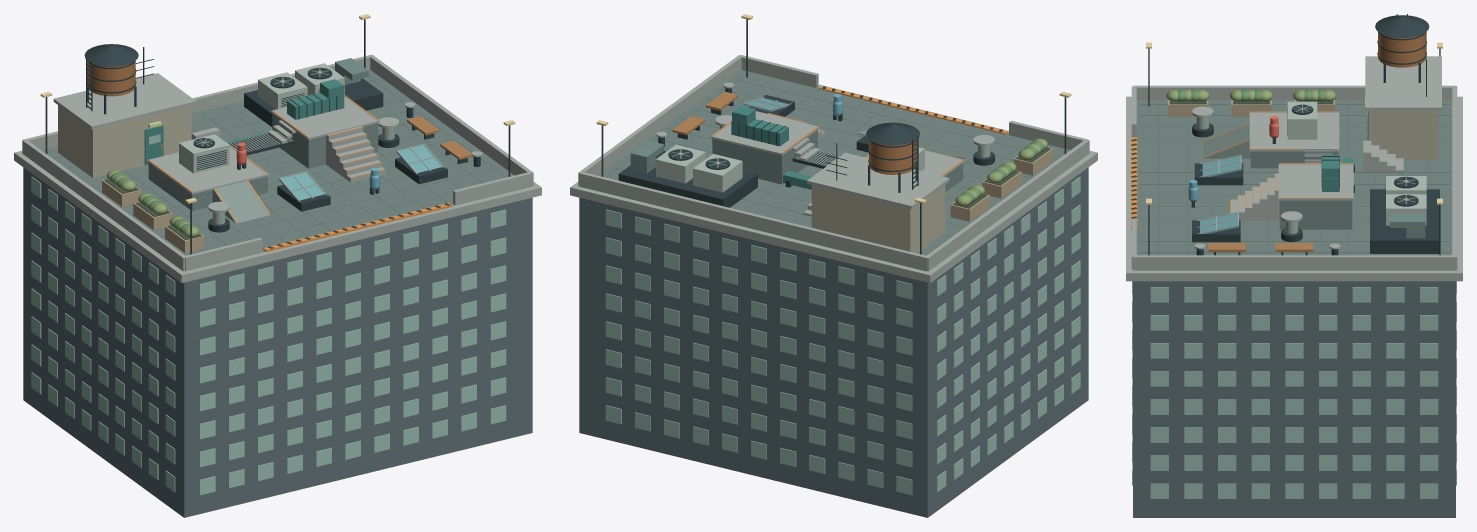
The model's file is rooftop.glb.
3 views of the same model, side by side, from view 1: azimuth 30°, elevation 25°; view 2: azimuth 150°, elevation 25°; view 3: azimuth 270°, elevation 25° (orthographic).
Visible parts, largest first — view 1: Tower facade, Roof membrane, Oversailing roof slab, Side parapet (×2), Service penthouse, Penthouse roof coping, Front parapet wing (×2), West roof terrace coping, East mechanical terrace coping, HVAC housing (×2), Rear parapet, East mechanical terrace (+11 smaller); view 2: Tower facade, Roof membrane, Oversailing roof slab, Service penthouse, Rear parapet, Side parapet (×2), Penthouse roof coping, HVAC housing (×2), Raised service deck, Front parapet wing (×2), East mechanical terrace, East mechanical terrace coping (+6 smaller); view 3: Tower facade, Roof membrane, Side parapet (×2), Oversailing roof slab, Penthouse roof coping, Service penthouse, Raised service deck, West roof terrace coping, East mechanical terrace coping, East mechanical terrace, SKYLINE / rooftop arena concept, Skylight curb (×2) (+11 smaller).
Part boxes in pixels (bbox=[...]): Tower facade: bbox=[23, 167, 532, 517]; Roof membrane: bbox=[41, 70, 514, 255]; Oversailing roof slab: bbox=[14, 150, 541, 282]; Side parapet (×2): bbox=[22, 55, 533, 271]; Service penthouse: bbox=[58, 105, 191, 177]; Penthouse roof coping: bbox=[53, 73, 196, 129]; Front parapet wing (×2): bbox=[185, 172, 531, 271]; West roof terrace coping: bbox=[147, 146, 269, 194]; East mechanical terrace coping: bbox=[271, 96, 379, 139]; HVAC housing (×2): bbox=[258, 63, 344, 109]; Rear parapet: bbox=[23, 55, 372, 149]; East mechanical terrace: bbox=[272, 114, 378, 168]; Tower facade: bbox=[579, 167, 1088, 517]; Roof membrane: bbox=[597, 70, 1070, 255]; Oversailing roof slab: bbox=[570, 84, 1097, 282]; Service penthouse: bbox=[811, 185, 945, 253]; Rear parapet: bbox=[578, 171, 927, 271]; Side parapet (×2): bbox=[578, 55, 1089, 271]; Penthouse roof coping: bbox=[807, 152, 949, 208]; HVAC housing (×2): bbox=[656, 144, 742, 192]; Raised service deck: bbox=[618, 151, 757, 207]; Front parapet wing (×2): bbox=[740, 55, 1087, 149]; East mechanical terrace: bbox=[712, 130, 817, 184]; East mechanical terrace coping: bbox=[710, 111, 819, 155]; Tower facade: bbox=[1133, 281, 1455, 517]; Roof membrane: bbox=[1134, 100, 1452, 255]; Side parapet (×2): bbox=[1133, 85, 1455, 270]; Oversailing roof slab: bbox=[1126, 96, 1462, 281]; Penthouse roof coping: bbox=[1365, 56, 1441, 110]; Service penthouse: bbox=[1368, 110, 1438, 159]; Raised service deck: bbox=[1370, 189, 1439, 253]; West roof terrace coping: bbox=[1249, 111, 1339, 151]; East mechanical terrace coping: bbox=[1278, 163, 1353, 200]; East mechanical terrace: bbox=[1279, 200, 1352, 229]; SKYLINE / rooftop arena concept: bbox=[1166, 89, 1336, 101]; Skylight curb (×2): bbox=[1192, 163, 1243, 242].
Bounding box in the file's own units: 31 × 29.58 × 25.
